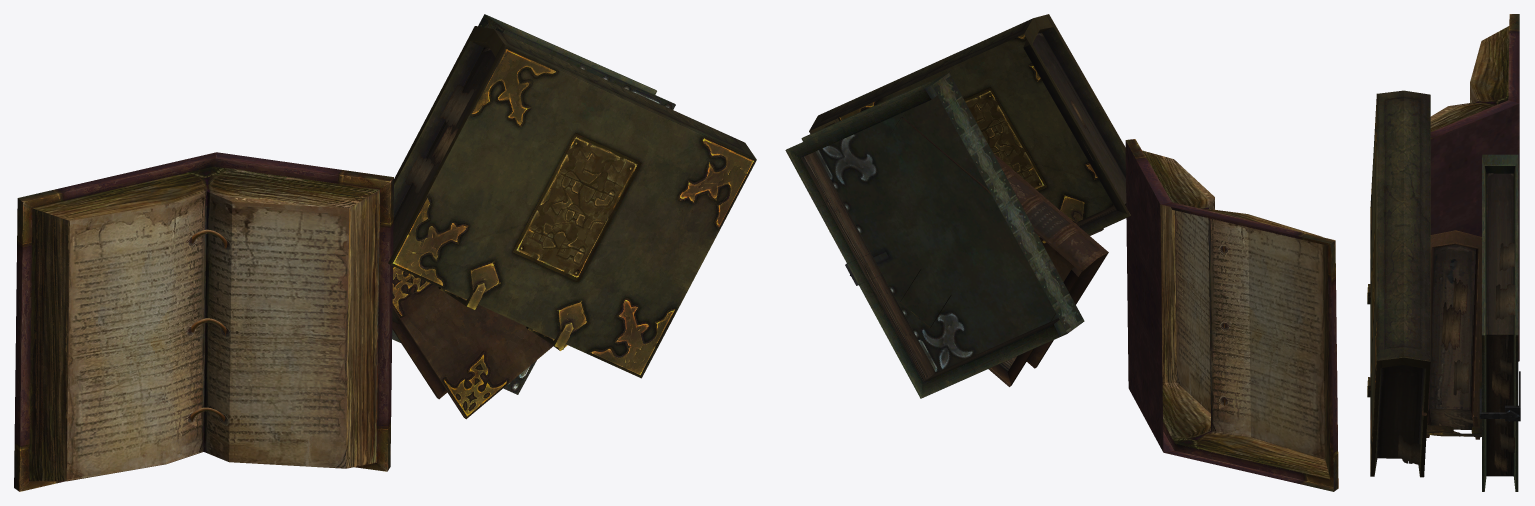
File: juqing_fuben_544_shuji_03.obj
The picture shows the model from 3 angles, left to right: view 1: azimuth 30°, elevation 25°; view 2: azimuth 150°, elevation 25°; view 3: azimuth 270°, elevation 25°; orthographic projection. The views are drawn at different scales.
Visible parts, largest first — view 1: juqing_fuben_544_shuji_03; view 2: juqing_fuben_544_shuji_03; view 3: juqing_fuben_544_shuji_03.
Part boxes in pixels (x1=…): juqing_fuben_544_shuji_03: x1=14, y1=14, x2=756, y2=491; juqing_fuben_544_shuji_03: x1=785, y1=14, x2=1338, y2=491; juqing_fuben_544_shuji_03: x1=1367, y1=14, x2=1520, y2=491.
Bounding box in the file's own units: 1065 × 633 × 236.
Materials: 10 (10 with a texture image).
